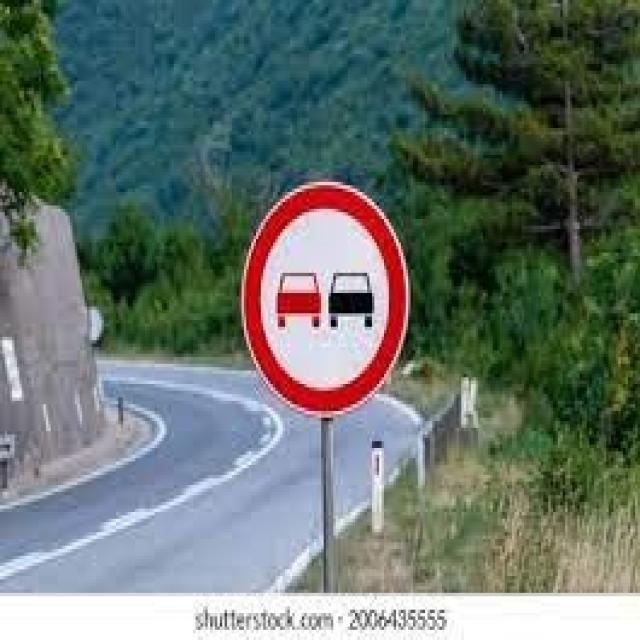no_passing: (234, 175, 413, 424)
